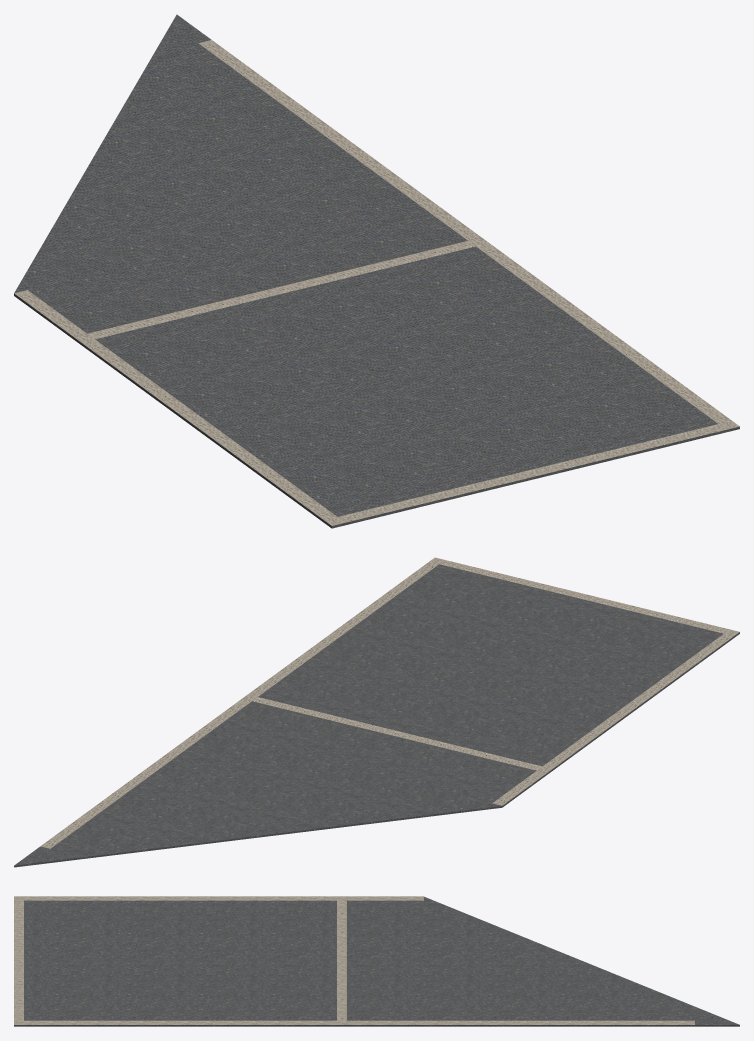
Rendered from SM_Pav_Piazzetta_Chiosco_B2.fbx.
3 views of the same model, one above another, from view 1: azimuth 30°, elevation 25°; view 2: azimuth 150°, elevation 25°; view 3: azimuth 270°, elevation 25° (orthographic). The views are drawn at different scales.
Parts seen in each view (by area): view 1: SM_Pav_Piazzetta_Chiosco_B2; view 2: SM_Pav_Piazzetta_Chiosco_B2; view 3: SM_Pav_Piazzetta_Chiosco_B2.
Boxes of the visible parts, x1,y1,x2,y2 form: SM_Pav_Piazzetta_Chiosco_B2: (14, 14, 739, 528); SM_Pav_Piazzetta_Chiosco_B2: (14, 557, 739, 867); SM_Pav_Piazzetta_Chiosco_B2: (14, 896, 739, 1026).
Size of what is drawn, in the model's own units: 1345 by 3215 by 8.2.
Materials: 2 (2 with a texture image).
